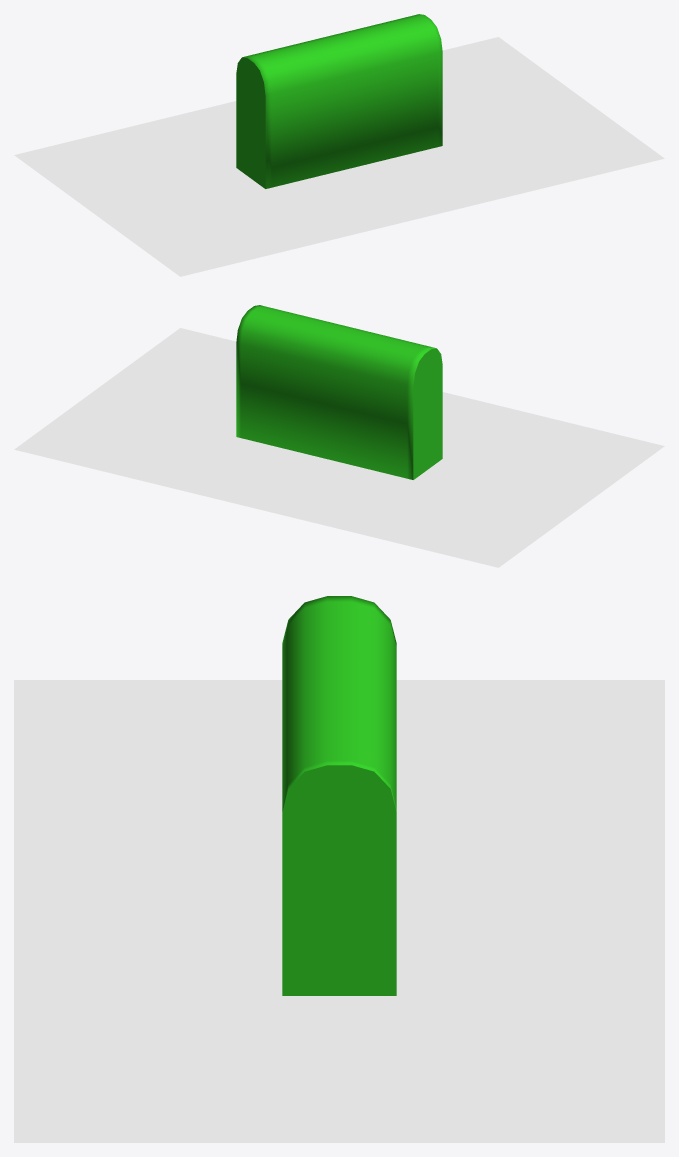
File: NormalContent.fbx
3 renders of one model, top to bottom at view 1: azimuth 30°, elevation 25°; view 2: azimuth 150°, elevation 25°; view 3: azimuth 270°, elevation 25°, orthographic. The views are drawn at different scales.
Parts seen in each view (by area): view 1: Shadow, Model; view 2: Shadow, Model; view 3: Shadow, Model.
Part boxes in pixels (bbox=[...]): Shadow: bbox=[14, 37, 664, 276]; Model: bbox=[236, 14, 442, 188]; Shadow: bbox=[14, 328, 664, 567]; Model: bbox=[236, 305, 442, 479]; Shadow: bbox=[14, 680, 664, 1142]; Model: bbox=[282, 596, 396, 995].
Bounding box in the file's own units: 3.42 × 0.7985 × 2.03.
2 materials, 1 textured.
